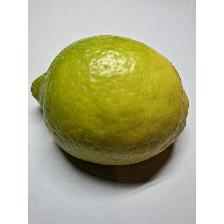Zitrone: (29, 32, 191, 168)
